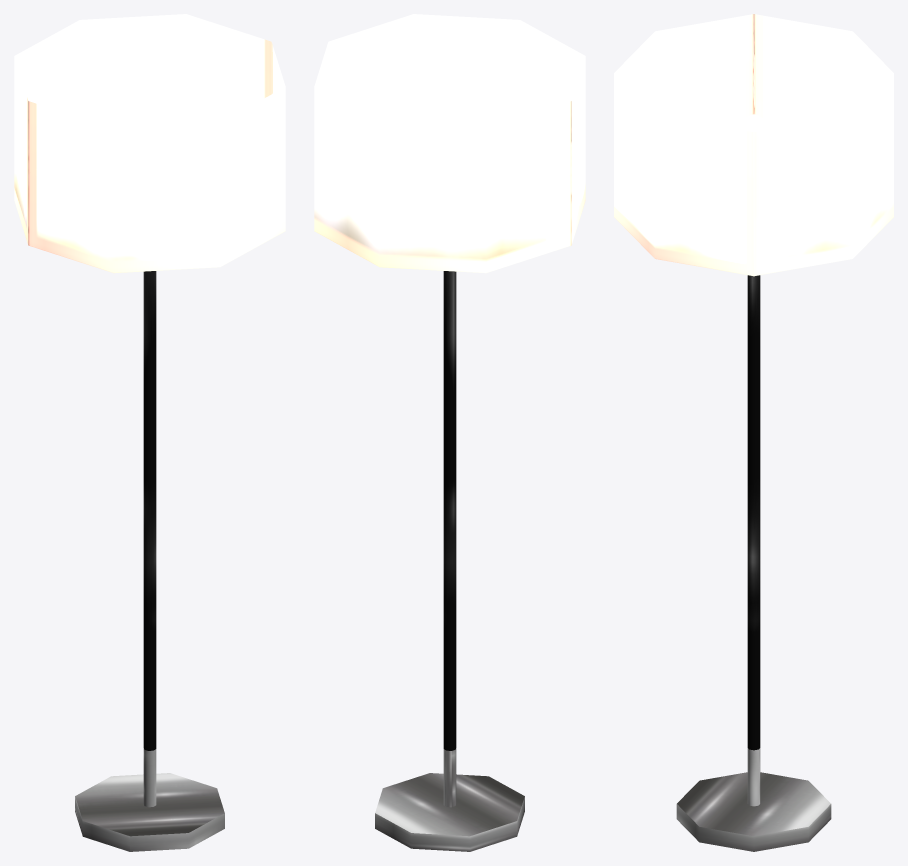
Rendered from lamp_floorA.fbx.
3 views of the same model, side by side, from view 1: azimuth 30°, elevation 25°; view 2: azimuth 150°, elevation 25°; view 3: azimuth 270°, elevation 25° (orthographic).
Parts seen in each view (by area): view 1: lamp_floorA; view 2: lamp_floorA; view 3: lamp_floorA.
Boxes of the visible parts, box(x1,y1,x2,y2) form: lamp_floorA: box(14, 14, 285, 851); lamp_floorA: box(314, 14, 585, 851); lamp_floorA: box(614, 14, 893, 851).
Size of the model in its own units: 67.5 by 199 by 67.5.
1 material, 1 textured.
